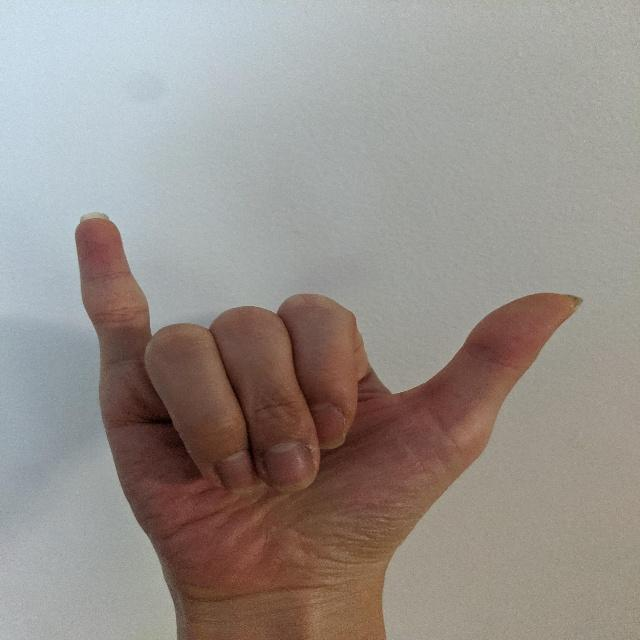Y: (66, 206, 596, 608)
